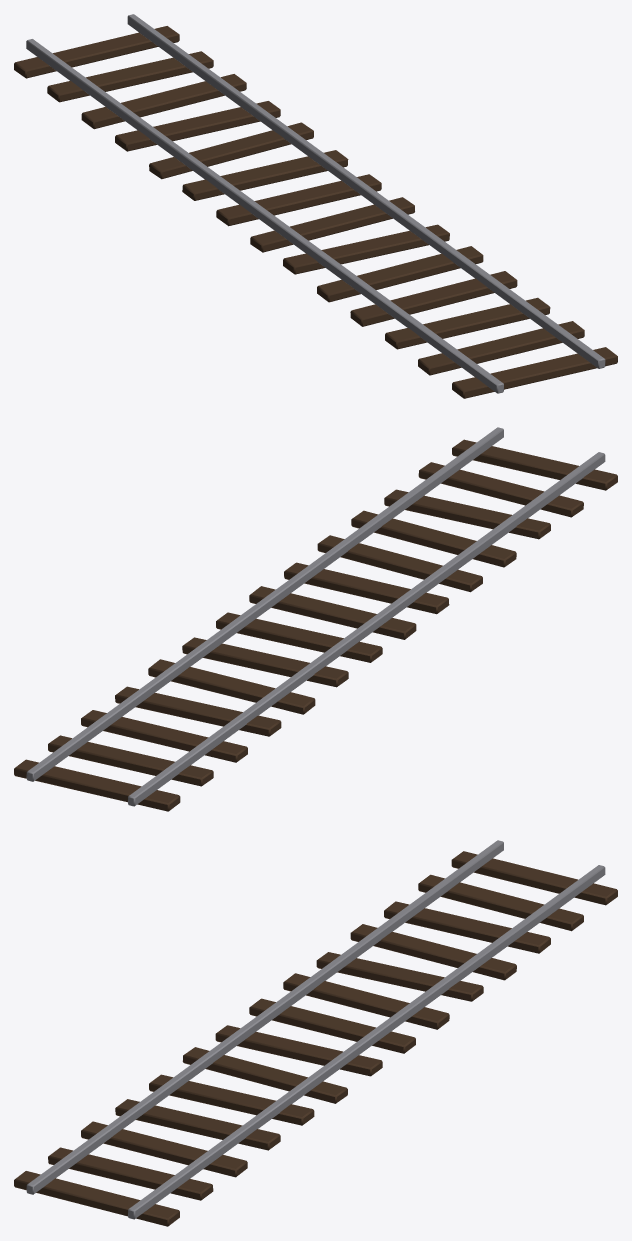
The model's file is rail_track.glb.
The picture shows the model from 3 angles, top to bottom: view 1: azimuth 30°, elevation 25°; view 2: azimuth 150°, elevation 25°; view 3: azimuth 330°, elevation 25°; orthographic projection.
Visible parts, largest first — view 1: rail_track; view 2: rail_track; view 3: rail_track.
Part boxes in pixels (bbox=[...]): rail_track: bbox=[14, 14, 617, 398]; rail_track: bbox=[14, 427, 617, 811]; rail_track: bbox=[14, 840, 617, 1226].
Bounding box in the file's own units: 1.9 × 0.2252 × 10.
